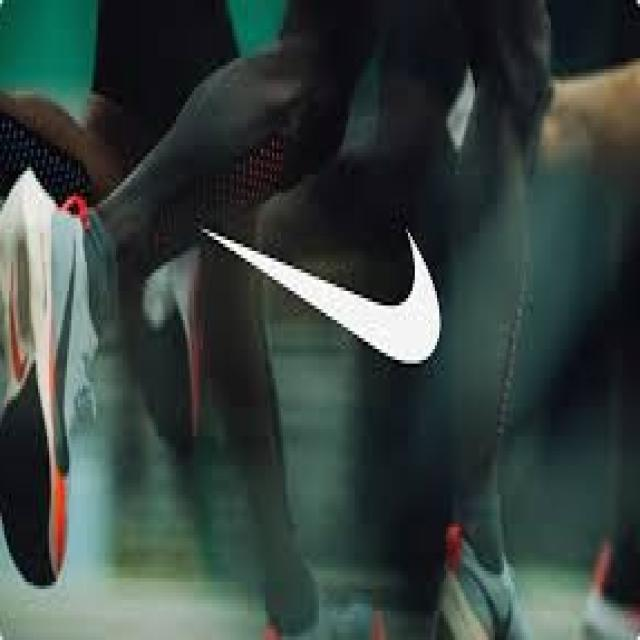nike: (188, 201, 457, 389), (1, 250, 31, 395)
